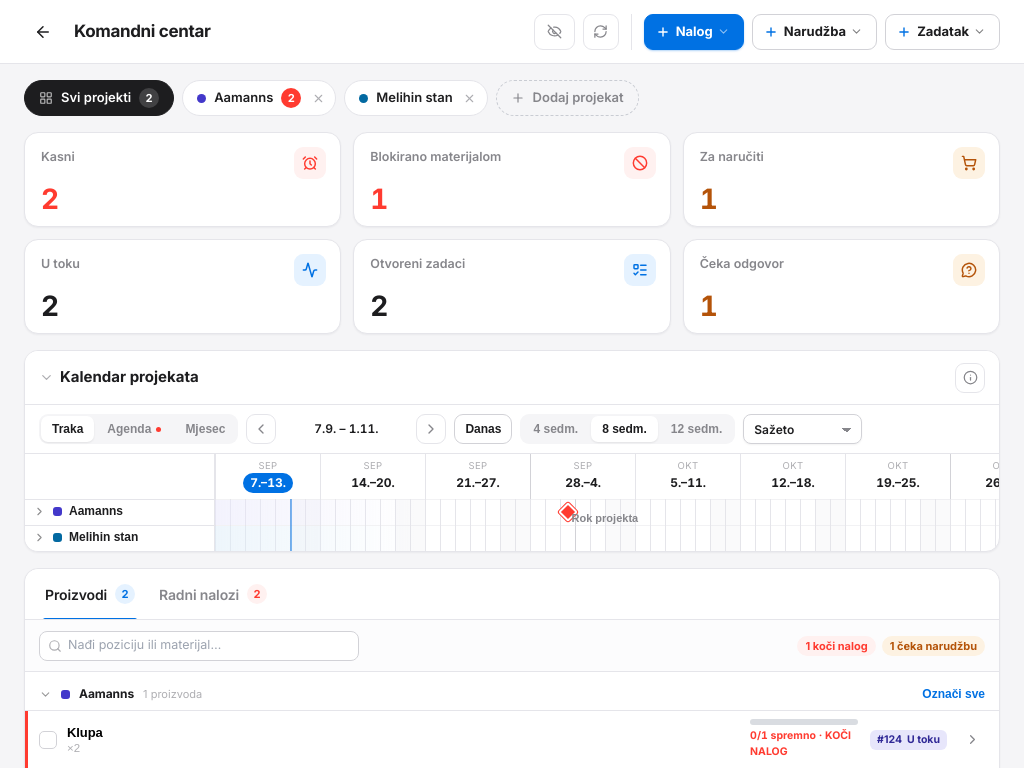
it: nalog, narudžba i zadatak se prave iz zaglavlja, uz izbor projekta
Click the button with aria-label "Nova narudžba materijala" at (814, 32), box [752,14,877,50]
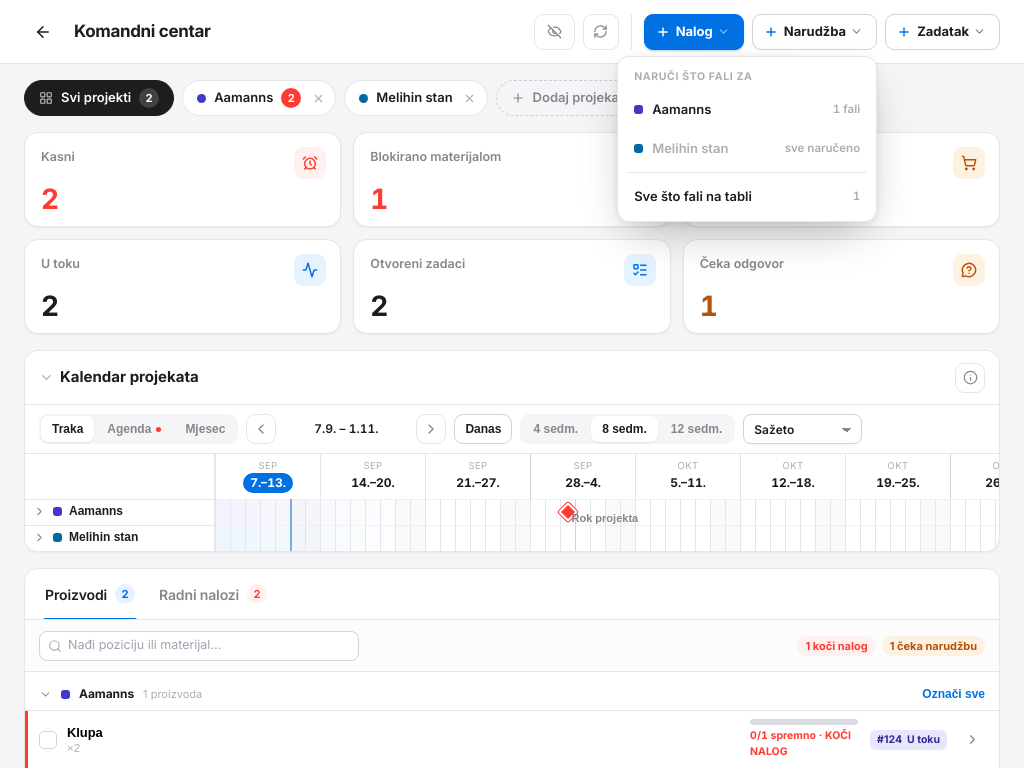
Now the menu item "Melihin stan sve naručeno" is disabled, box [624,129,870,167]
Now the menu item "Aamanns 1 fali" is enabled
Click the menu item "Aamanns 1 fali" at (747, 109), box [624,90,870,128]
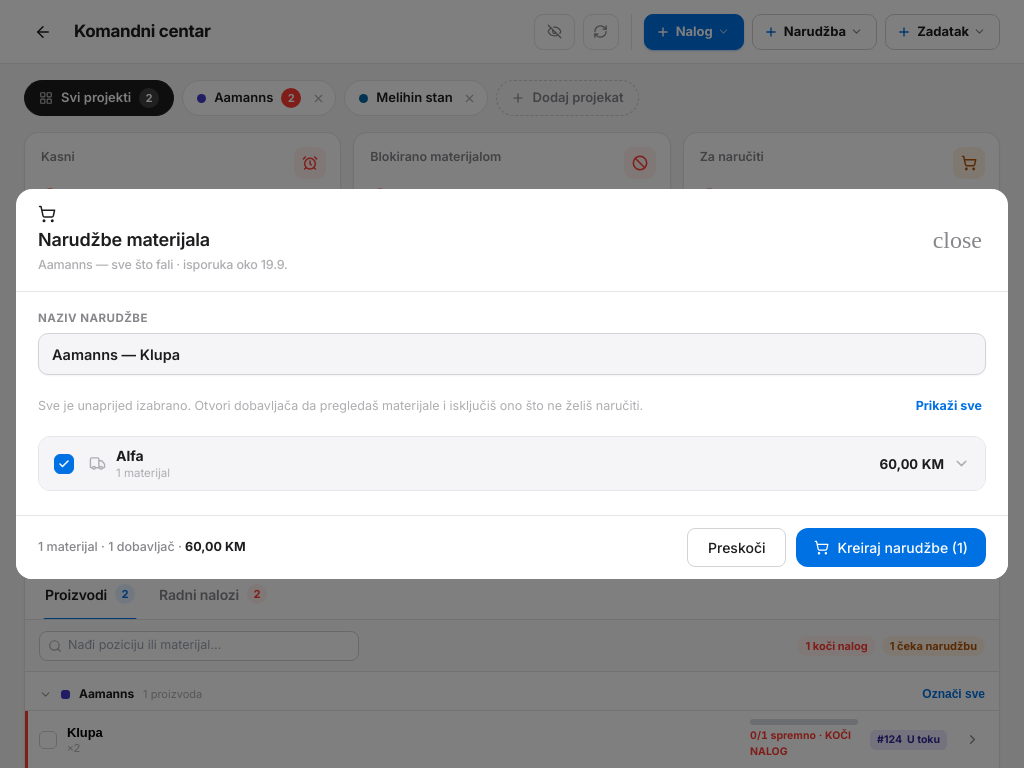
Now the field labelled "Naziv narudžbe" holds "Aamanns — Klupa", box [38,333,986,375]
